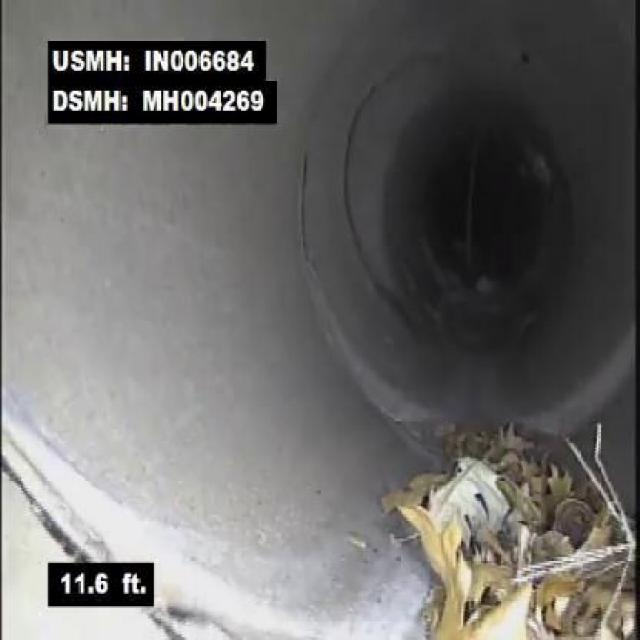Joint offset: (323, 323, 429, 429), (534, 338, 634, 422)
